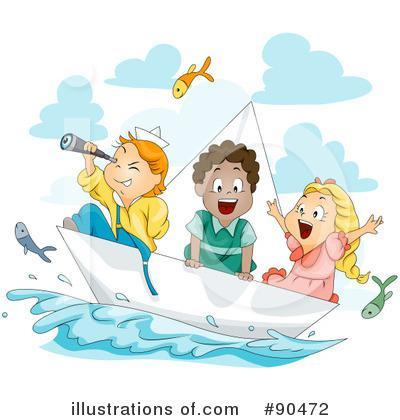boat: (52, 223, 339, 349)
person: (263, 179, 387, 301), (61, 135, 175, 253), (184, 135, 262, 282)
